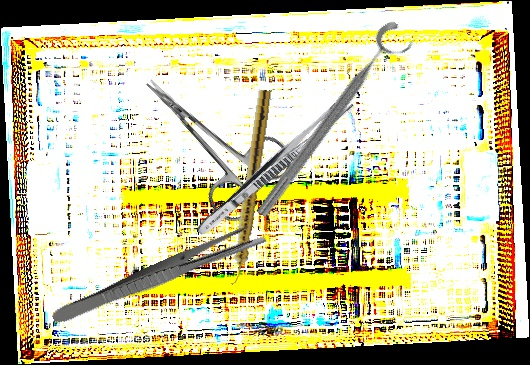Dressing Forceps: (192, 91, 356, 241), (49, 223, 256, 331)
Fixation Ring: (250, 17, 420, 230)
Handpiece: (227, 88, 272, 287)
Iris Scissors: (116, 45, 301, 229)
Surgical Spoon: (122, 233, 268, 293)
